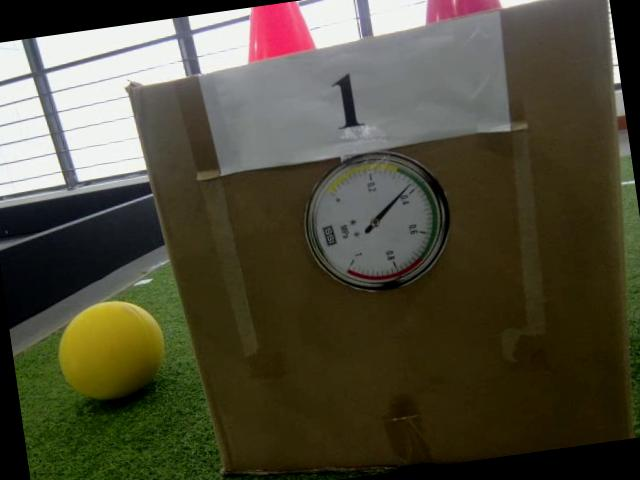1: (326, 68, 367, 136)
Dashboard: (296, 142, 462, 302)
orange_barrel: (235, 0, 319, 67)
red_barrel: (418, 0, 504, 29)
ssi: (321, 223, 338, 248)
yellow_ball: (50, 294, 170, 408)
